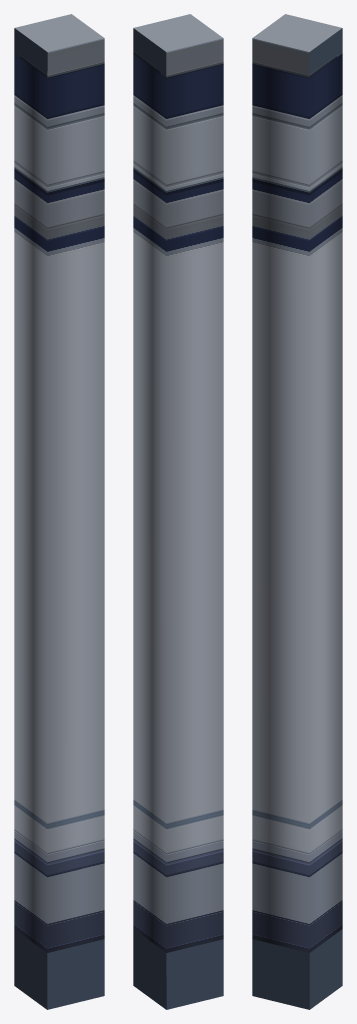
File: my_carrier_01_wall_side.glb
3 views of the same model, side by side, from view 1: azimuth 30°, elevation 25°; view 2: azimuth 210°, elevation 25°; view 3: azimuth 330°, elevation 25° (orthographic).
Visible parts, largest first — view 1: my_carrier_01_wall_side; view 2: my_carrier_01_wall_side; view 3: my_carrier_01_wall_side.
Part boxes in pixels (x1=…): my_carrier_01_wall_side: x1=14, y1=14, x2=104, y2=1009; my_carrier_01_wall_side: x1=133, y1=14, x2=223, y2=1009; my_carrier_01_wall_side: x1=252, y1=14, x2=342, y2=1009.
Size of the model in its own units: 0.003 by 0.048 by 0.00302.
1 material, 1 textured.
